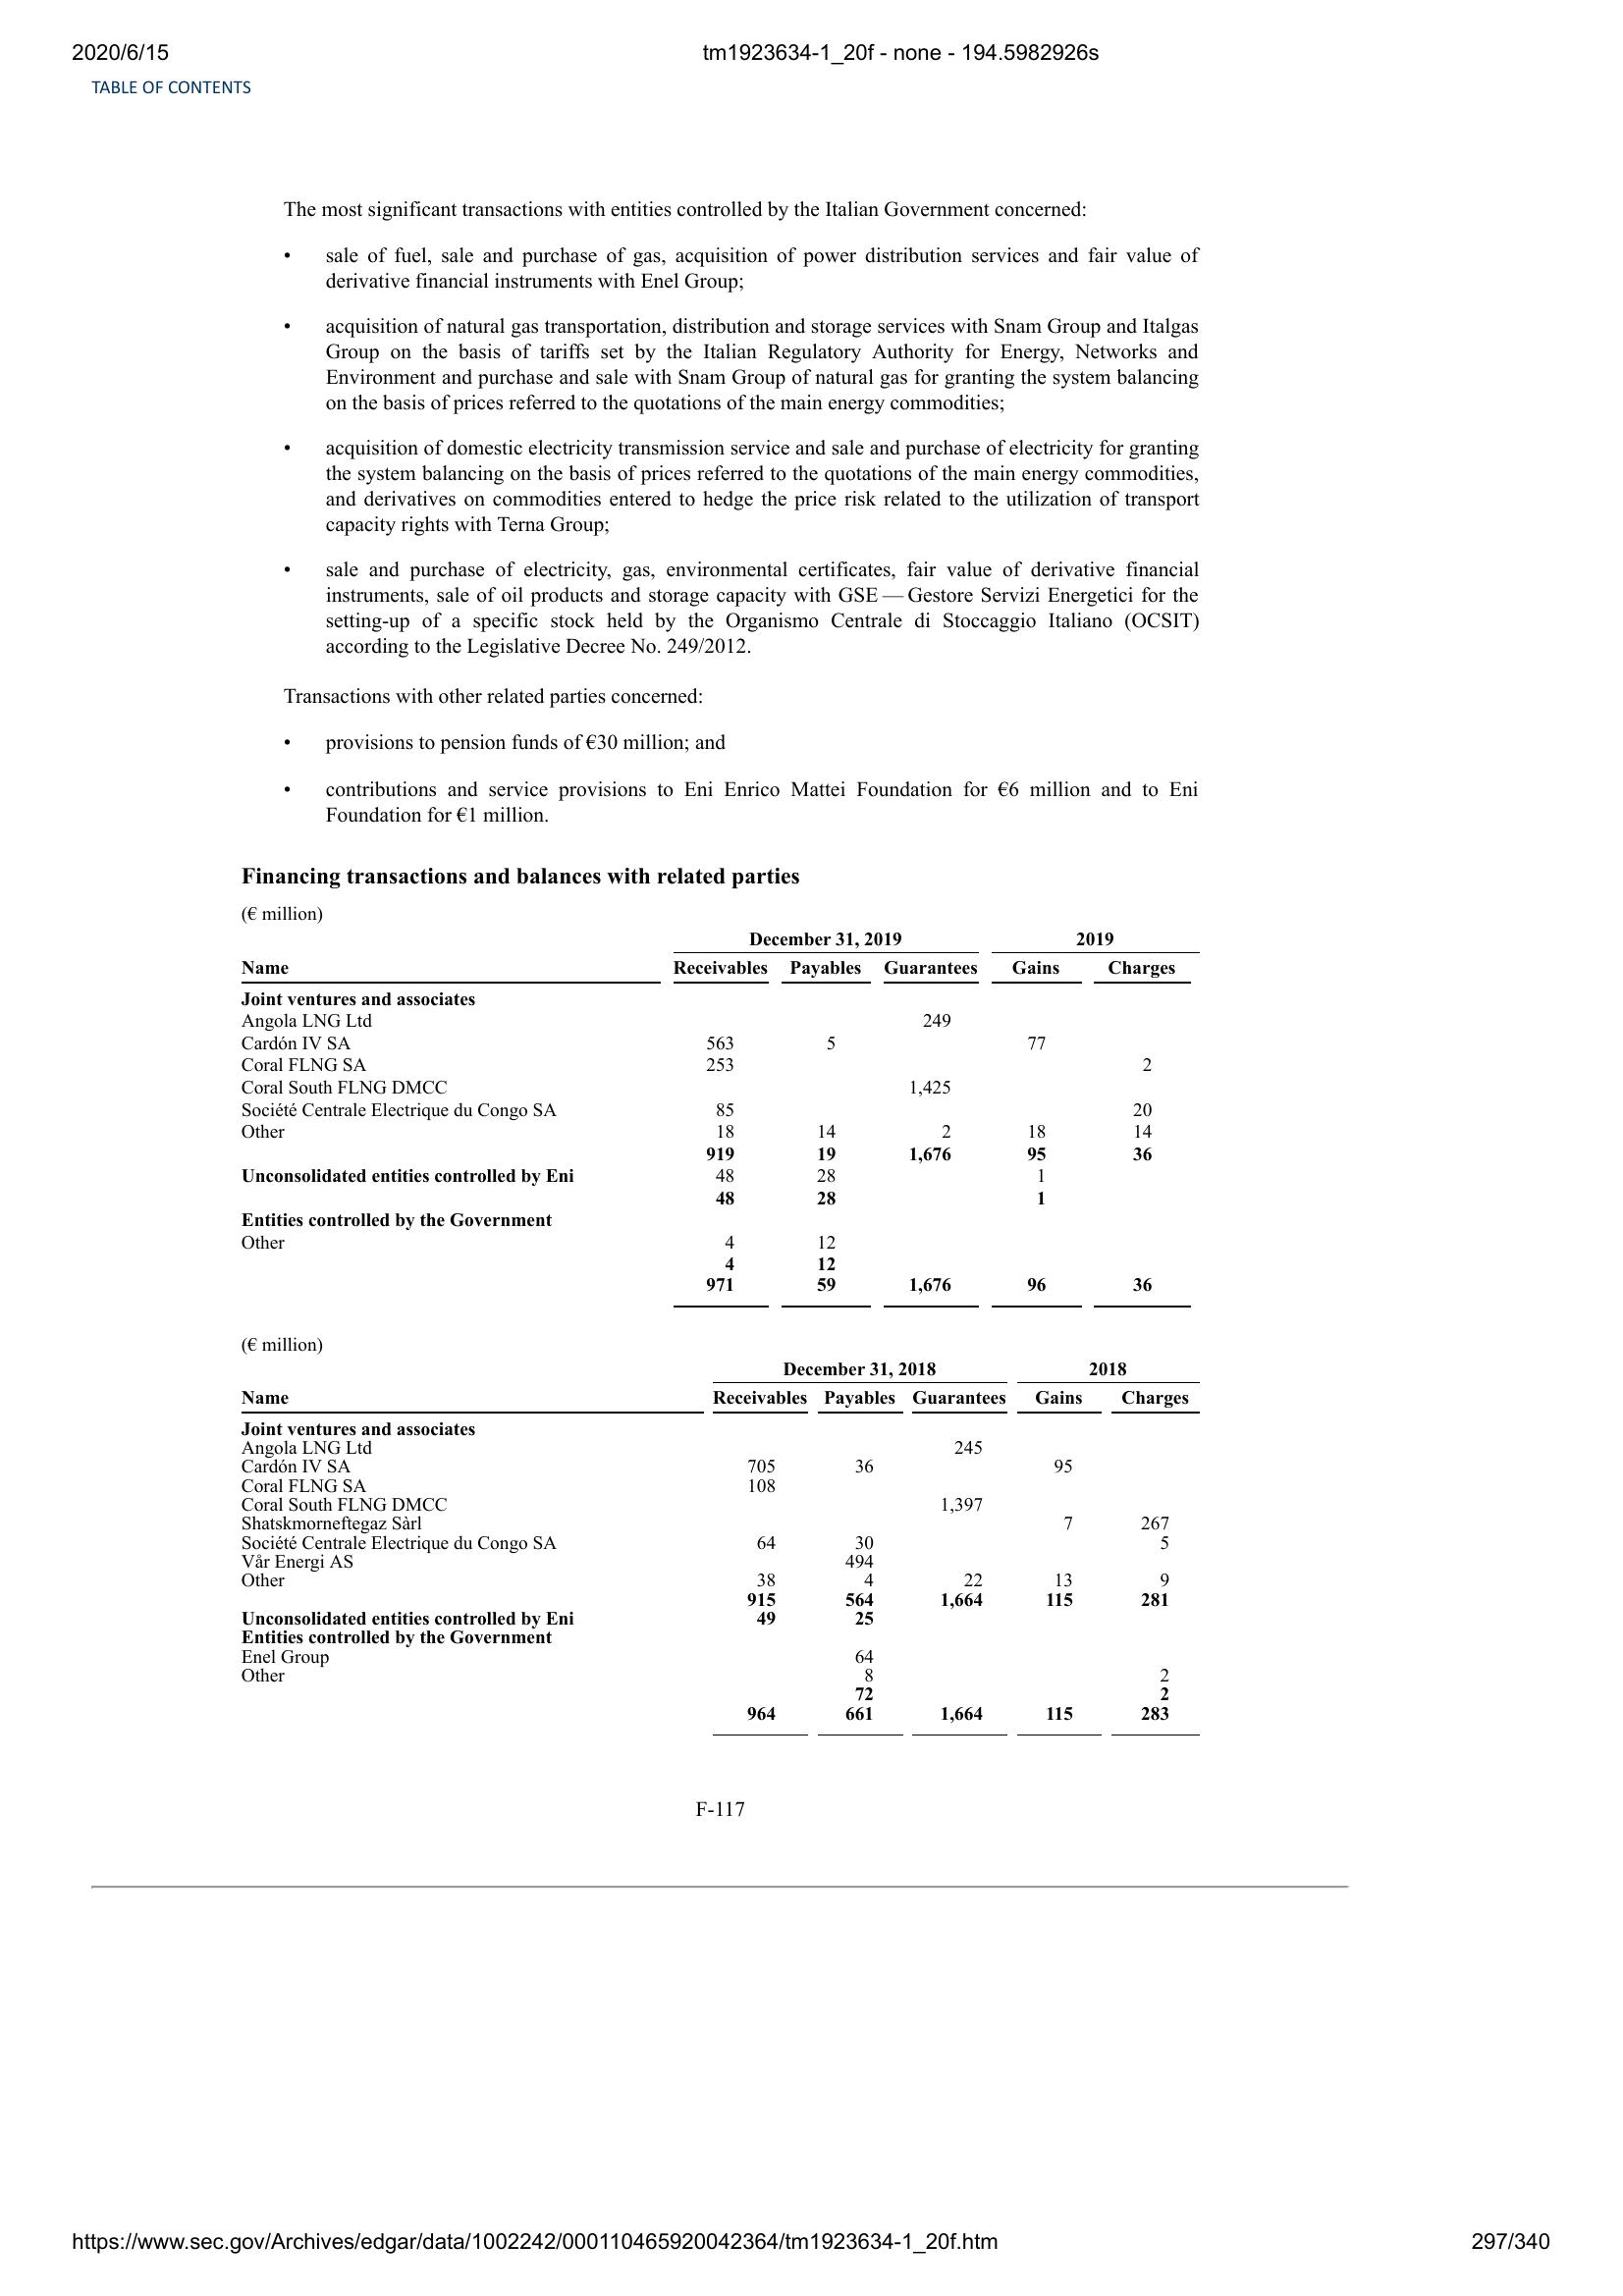table: (237, 927, 1201, 1308), (239, 1357, 1200, 1729)
